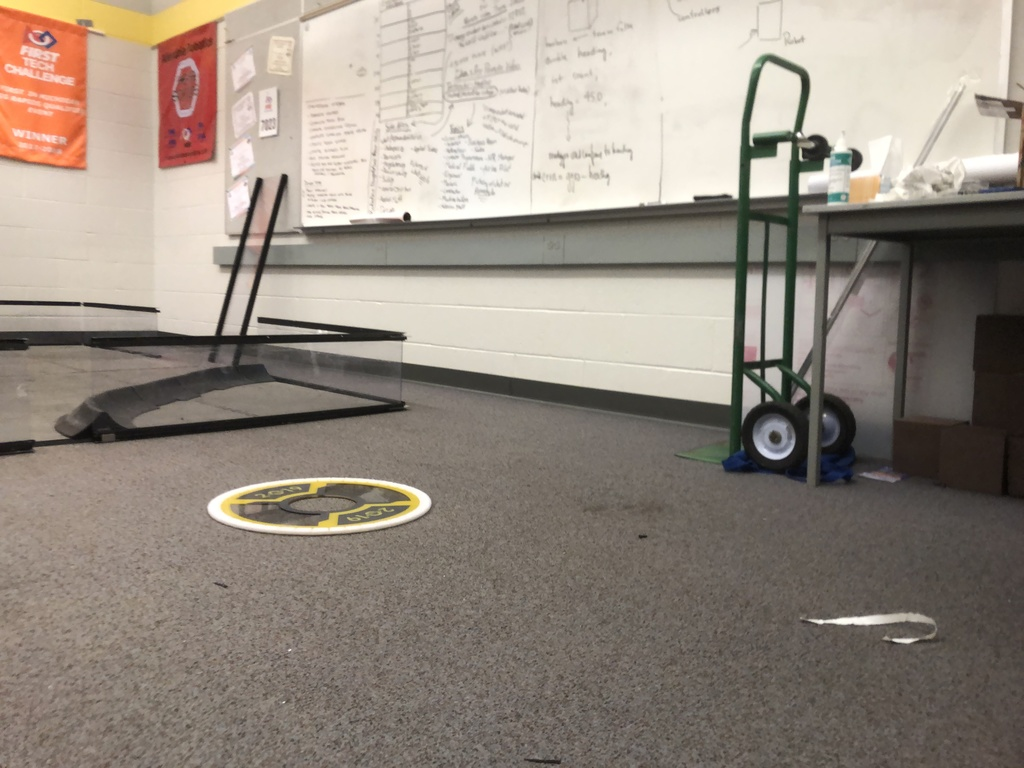hatch_panel: (201, 464, 440, 540)
